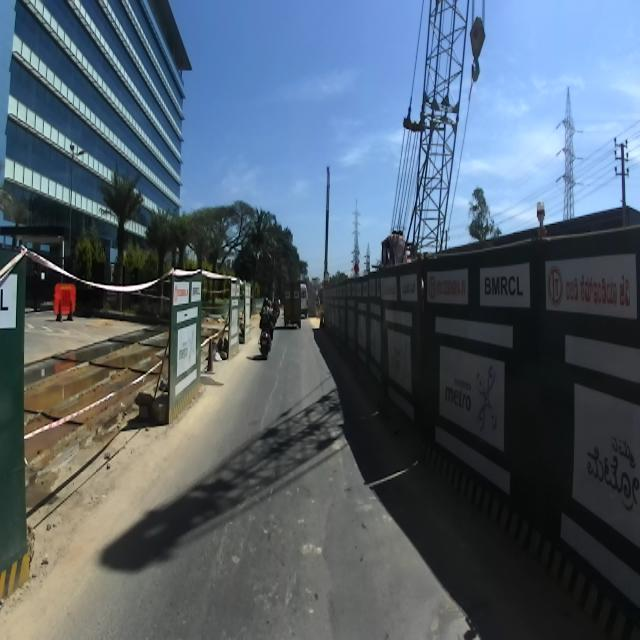barrier ahead at: (326, 210, 637, 610), (170, 272, 206, 414)
